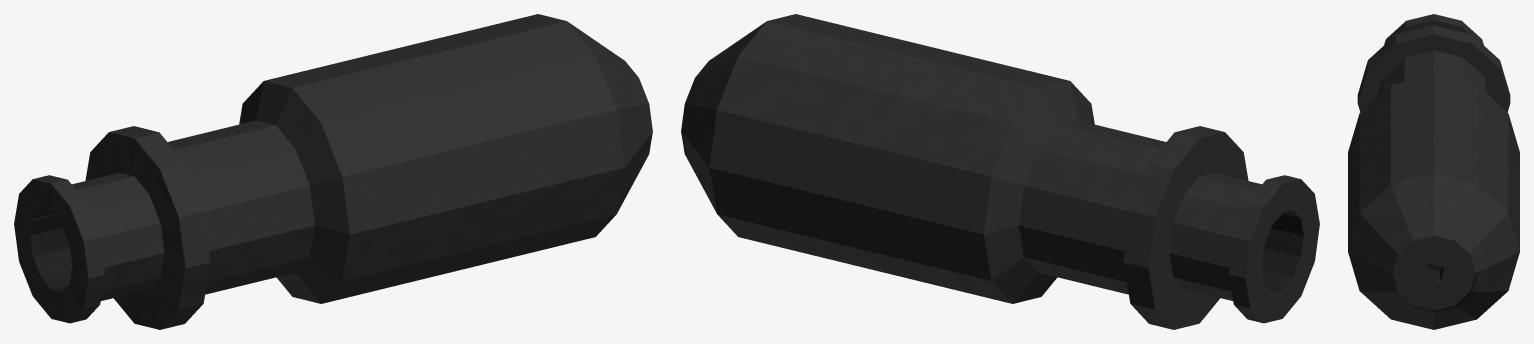
File: pitbull-hoverboard-thruster.obj
3 renders of one model, left to right at view 1: azimuth 30°, elevation 25°; view 2: azimuth 150°, elevation 25°; view 3: azimuth 270°, elevation 25°, orthographic. The views are drawn at different scales.
Parts seen in each view (by area): view 1: thruster_Cylinder; view 2: thruster_Cylinder; view 3: thruster_Cylinder.
Boxes of the visible parts, left/top/right/bottom form: thruster_Cylinder: left=14, top=14, right=652, bottom=329; thruster_Cylinder: left=681, top=14, right=1319, bottom=329; thruster_Cylinder: left=1348, top=14, right=1519, bottom=329.
Size of the model in its own units: 0.345 by 0.12 by 0.12.
